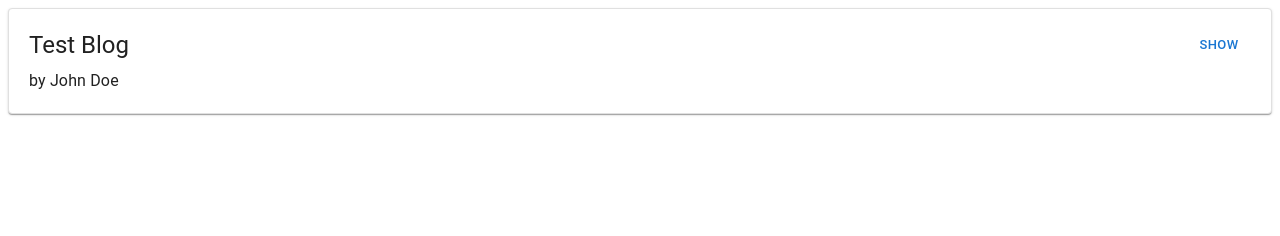
Test: shows the Remove button to the blog creator and removes the blog when confirmed
Later steps or results of the test are not shown.
What coordinates should you click on to do the following:
click the button "Show"
I would click on:
 (1219, 45)
Its box is [1187,30,1251,60].
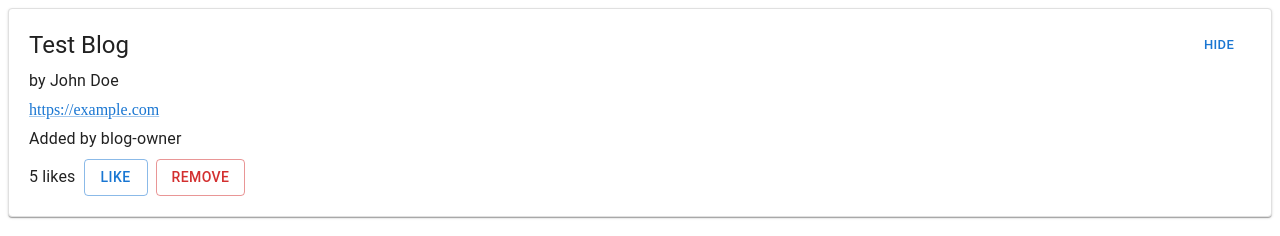
Result: the button "Remove" is shown at [156,159,245,196]
